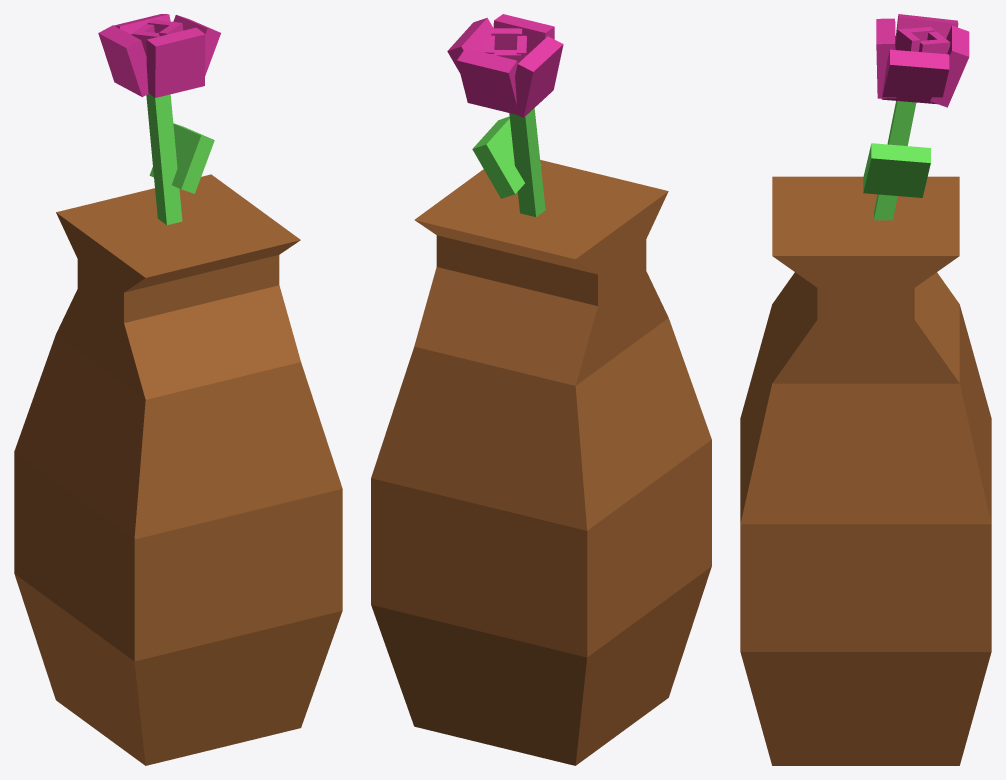
Rendered from TableFlower.fbx.
The picture shows the model from 3 angles, left to right: view 1: azimuth 30°, elevation 25°; view 2: azimuth 150°, elevation 25°; view 3: azimuth 270°, elevation 25°; orthographic projection. The views are drawn at different scales.
Parts seen in each view (by area): view 1: Cube, Cube.004, Cube.001, Cube.005, Cube.010, Cube.002; view 2: Cube, Cube.003, Cube.001, Cube.005, Cube.010, Cube.004, Cube.002; view 3: Cube, Cube.010, Cube.002, Cube.001, Cube.003, Cube.004, Cube.005, Cube.007.
Boxes of the visible parts, x1,y1,x2,y2 form: Cube: (14, 174, 342, 765); Cube.004: (146, 27, 205, 97); Cube.001: (146, 93, 182, 225); Cube.005: (98, 25, 148, 97); Cube.010: (149, 123, 214, 193); Cube.002: (173, 15, 220, 75); Cube: (371, 160, 711, 765); Cube.003: (457, 48, 517, 114); Cube.001: (509, 108, 545, 216); Cube.005: (508, 36, 563, 117); Cube.010: (472, 116, 541, 198); Cube.004: (493, 14, 554, 54); Cube.002: (447, 17, 493, 73); Cube: (740, 176, 991, 765); Cube.010: (863, 143, 930, 197); Cube.002: (881, 49, 949, 104); Cube.001: (874, 101, 916, 220); Cube.003: (930, 25, 969, 107); Cube.004: (876, 18, 896, 98); Cube.005: (895, 14, 958, 41); Cube.007: (895, 28, 920, 51).
Bounding box in the file's own units: 134 × 411 × 134.
